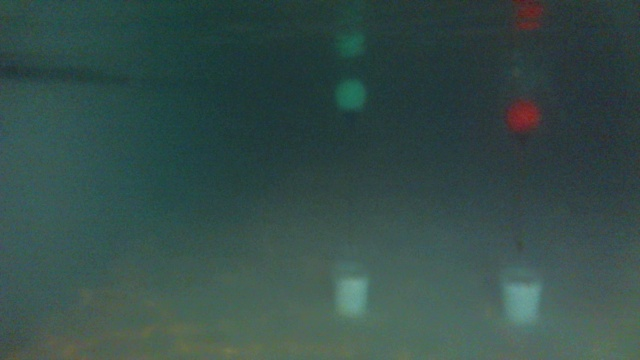buoy_green: (333, 75, 367, 122)
buoy_red: (505, 100, 538, 143)
